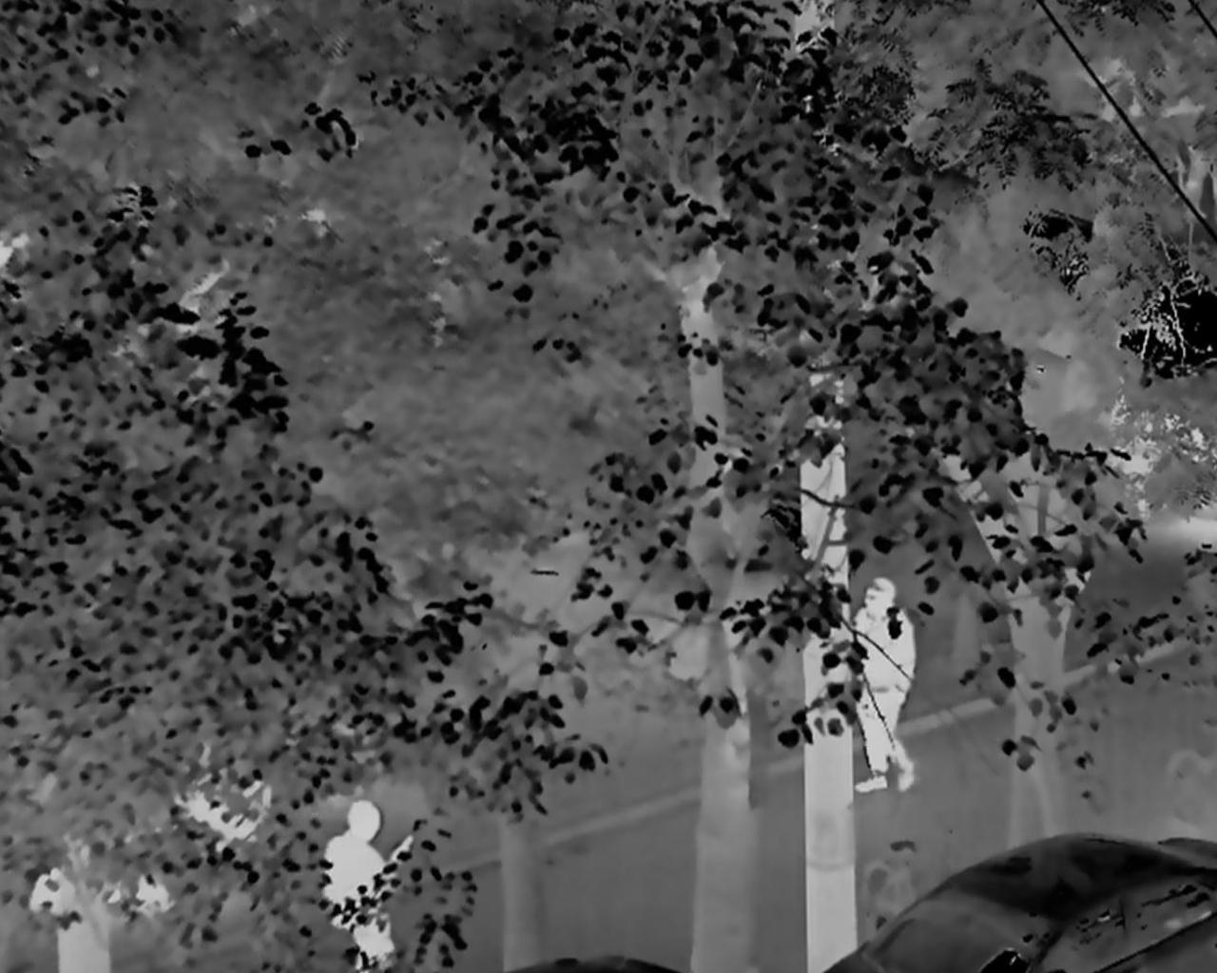person: (319, 799, 419, 973), (855, 574, 918, 804)
